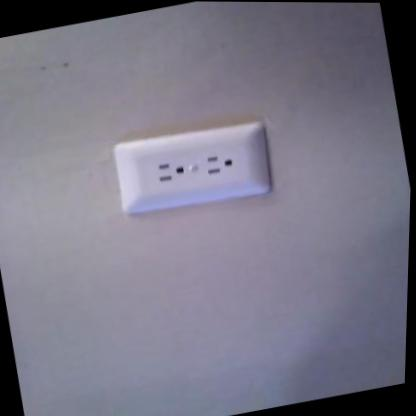OUTLET: (108, 113, 278, 220)
